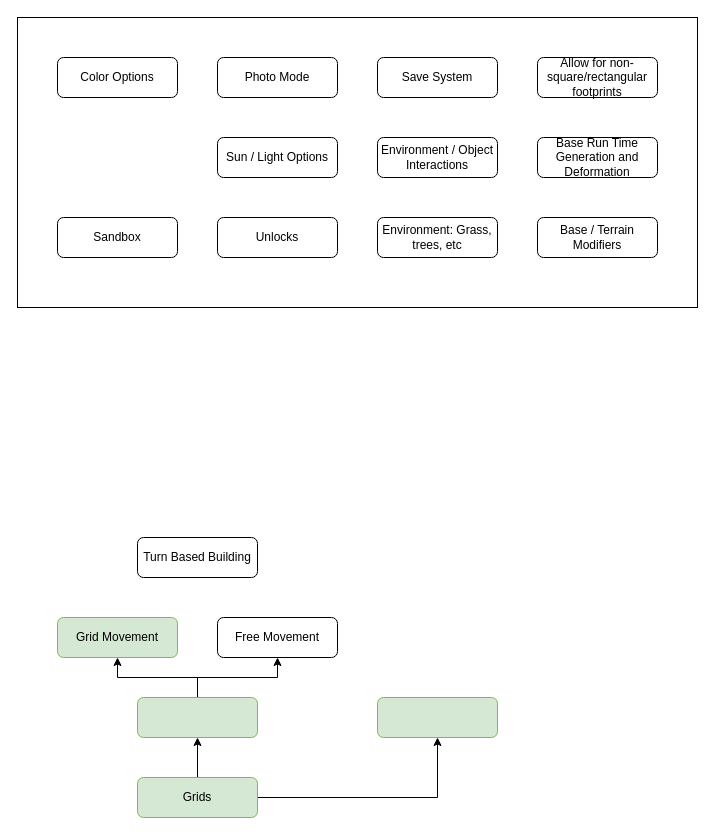
The diagram is 715 pixels wide and 835 high, and some of its shapes have lost their labels. The shapes that lost their labels are listed below. From the top down, each one's centre as x and y in pixels, then its label:
the point at 197,717: Placement
the point at 437,717: Camera Movement
